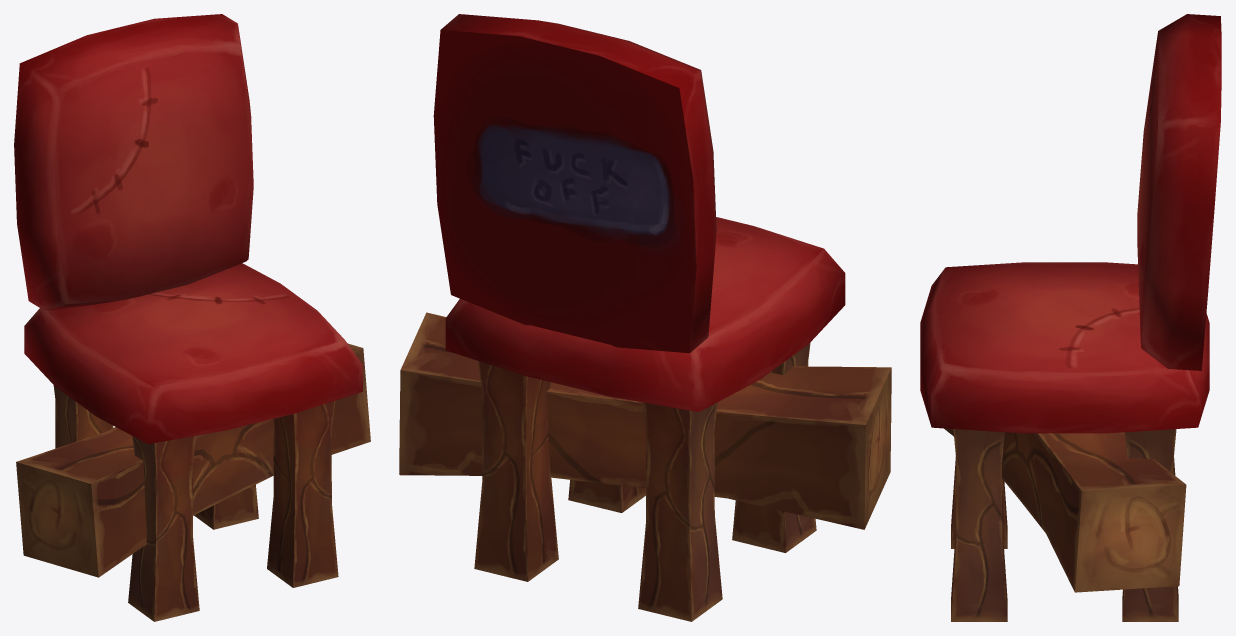
Rendered from chair_pack_01.fbx.
The picture shows the model from 3 angles, left to right: view 1: azimuth 30°, elevation 25°; view 2: azimuth 150°, elevation 25°; view 3: azimuth 270°, elevation 25°; orthographic projection. The views are drawn at different scales.
Parts seen in each view (by area): view 1: chair_001, chair_002; view 2: chair_001, chair_002; view 3: chair_001, chair_002.
Part boxes in pixels (x1,y1,x2,y2): chair_001: (14,14,362,621); chair_002: (16,343,370,577); chair_001: (433,14,845,621); chair_002: (399,312,891,529); chair_001: (920,14,1221,621); chair_002: (944,428,1186,592).
Size of the model in its own units: 3.52 by 4.46 by 2.35.
